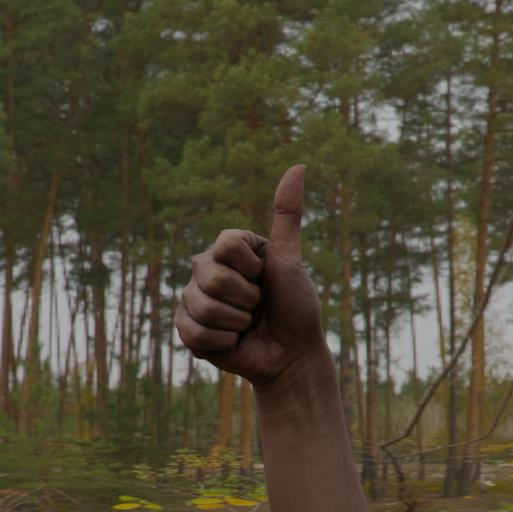thumbs-up: (173, 159, 333, 398)
